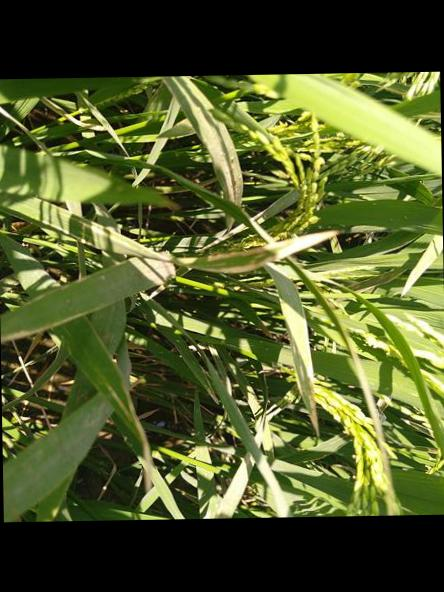Leaf Streak: (70, 212, 340, 271), (100, 376, 153, 477), (1, 305, 104, 341), (288, 323, 319, 439), (23, 268, 107, 304)
